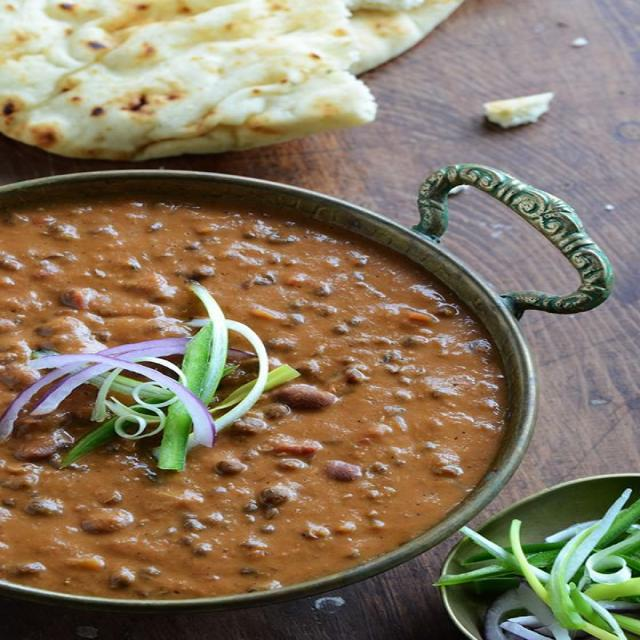dal_makhani: (0, 171, 551, 604)
